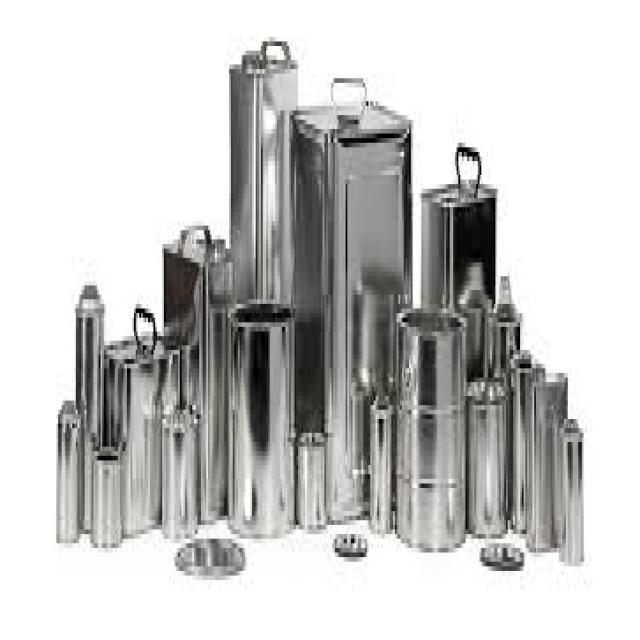metal: (287, 92, 409, 520), (229, 37, 298, 322), (420, 175, 496, 424), (161, 231, 226, 521), (393, 304, 464, 543), (102, 327, 178, 529), (226, 295, 289, 534), (483, 272, 518, 525), (73, 281, 103, 529), (525, 373, 566, 548), (506, 350, 543, 543), (462, 378, 502, 534), (162, 400, 198, 525), (459, 258, 487, 396), (559, 414, 580, 562), (295, 423, 325, 525), (368, 396, 388, 529), (90, 447, 118, 539), (55, 401, 71, 534), (173, 543, 242, 571), (479, 539, 522, 566), (333, 530, 365, 557)
